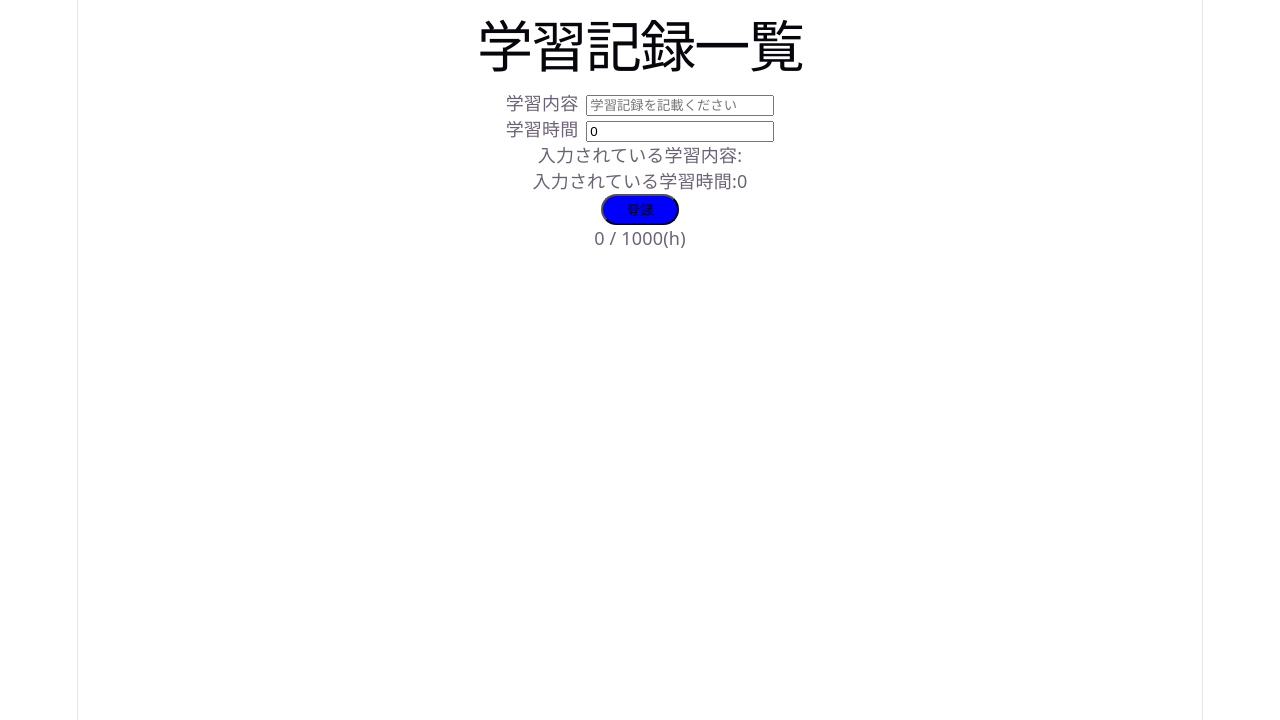
Scenario: App › 入力バリデーション
The image size is (1280, 720).
Check: the text "0 / 1000(h)" is shown, box x1=594 y1=226 x2=686 y2=250
Click the button "登録" at (640, 210), box x1=601 y1=194 x2=679 y2=226
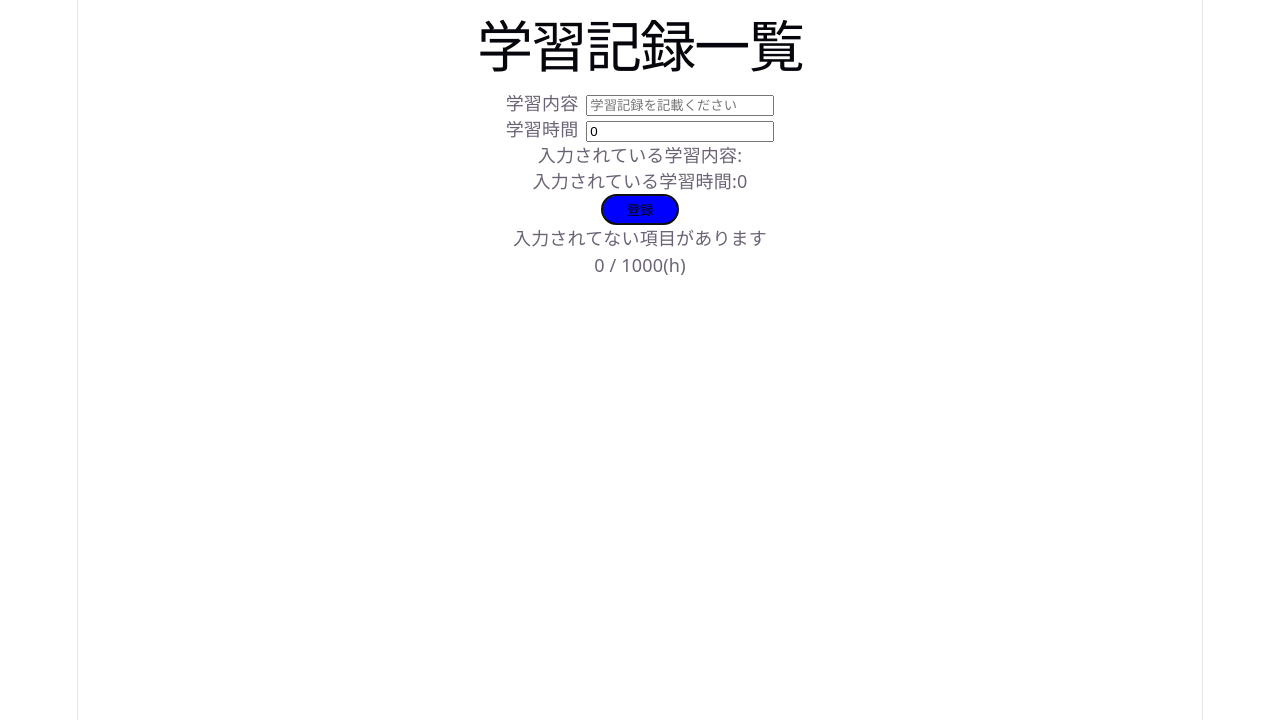
Check: the text "入力されてない項目があります" is shown, box x1=513 y1=226 x2=767 y2=250
